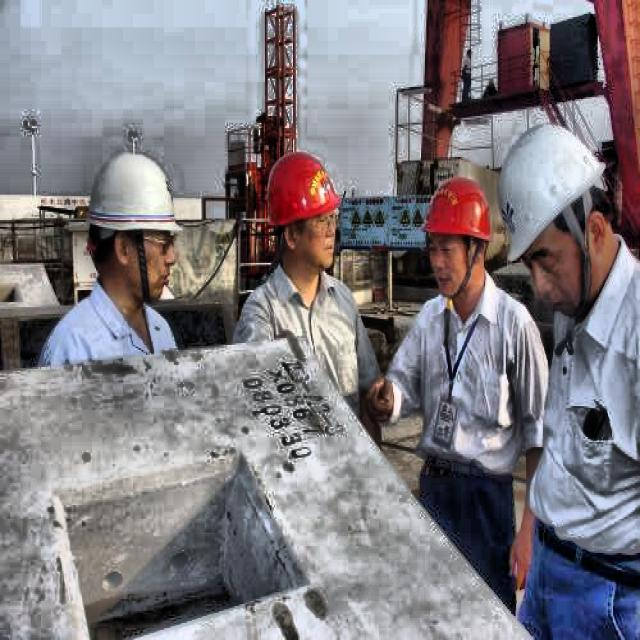helmet: (498, 118, 610, 307), (86, 140, 180, 307), (262, 142, 347, 283), (417, 169, 497, 299)
